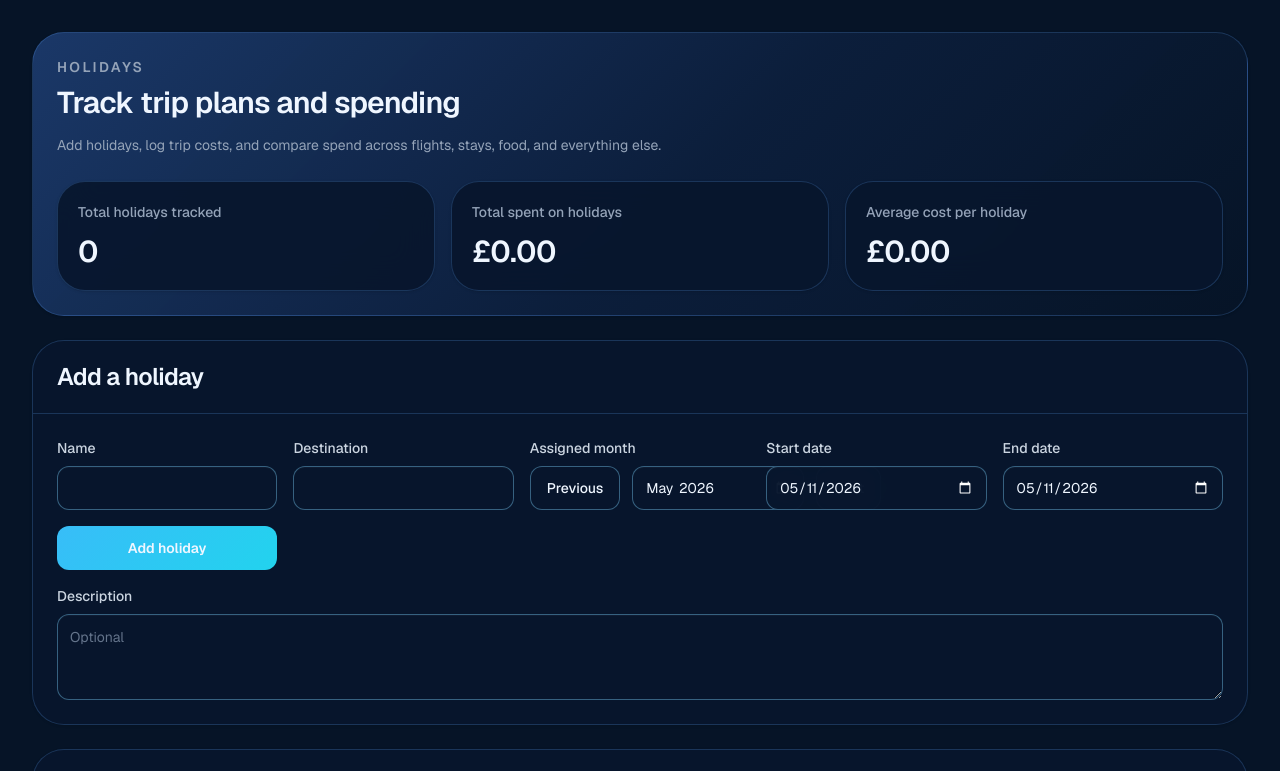
Scenario: [Component] holidays page › should show a validation error when assigned month is cleared before submit
The image size is (1280, 771).
Step 1. Type "Rome Escape" into the field labelled "Name" → (167, 488), box [57,466,277,510]
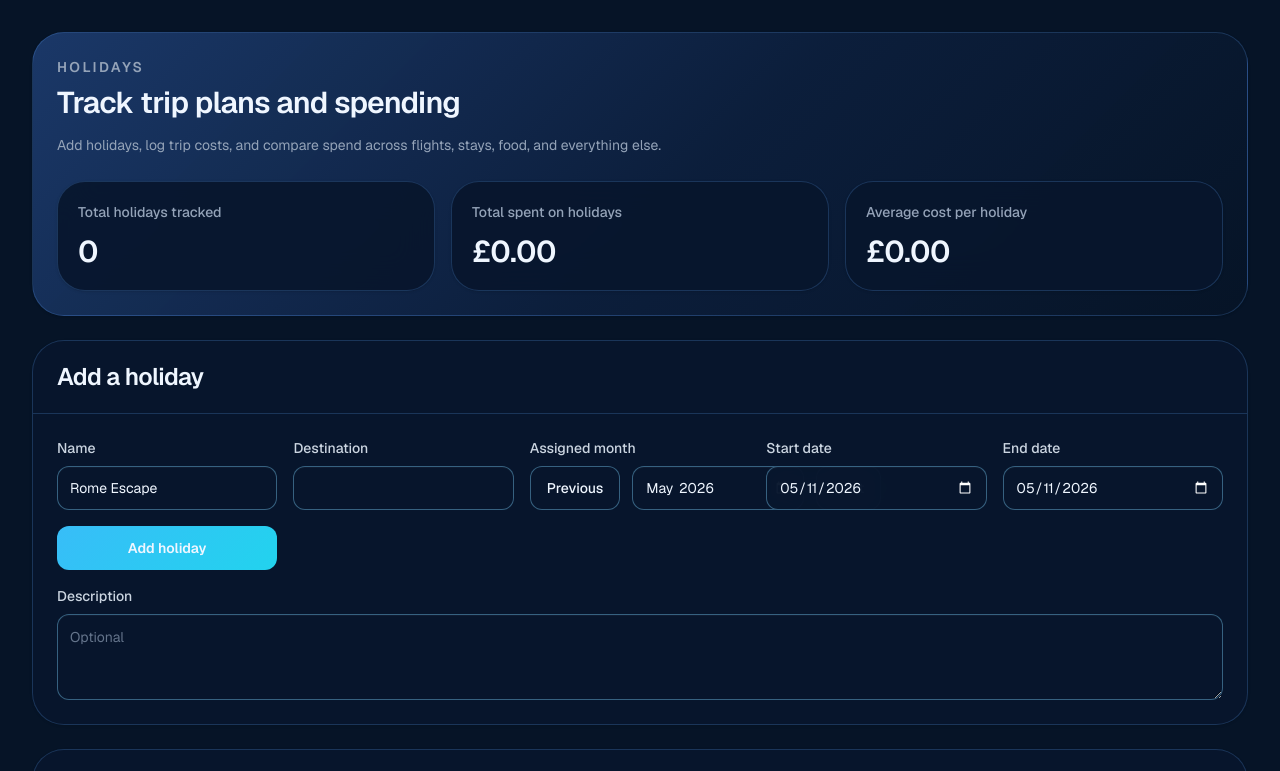
Step 2. Type "Rome" into the field labelled "Destination" → (404, 488), box [293,466,514,510]
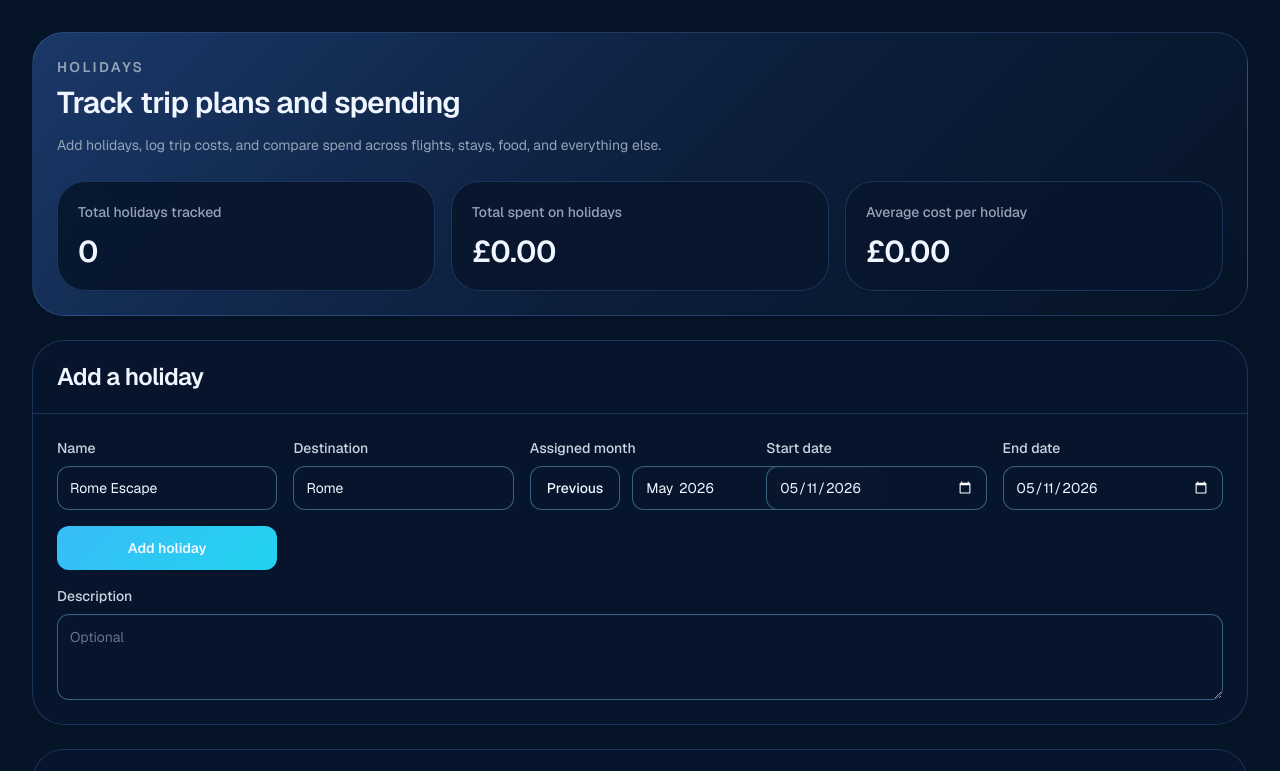
Step 3. Clear the field labelled "Assigned month" → (718, 488), box [632,466,804,510]
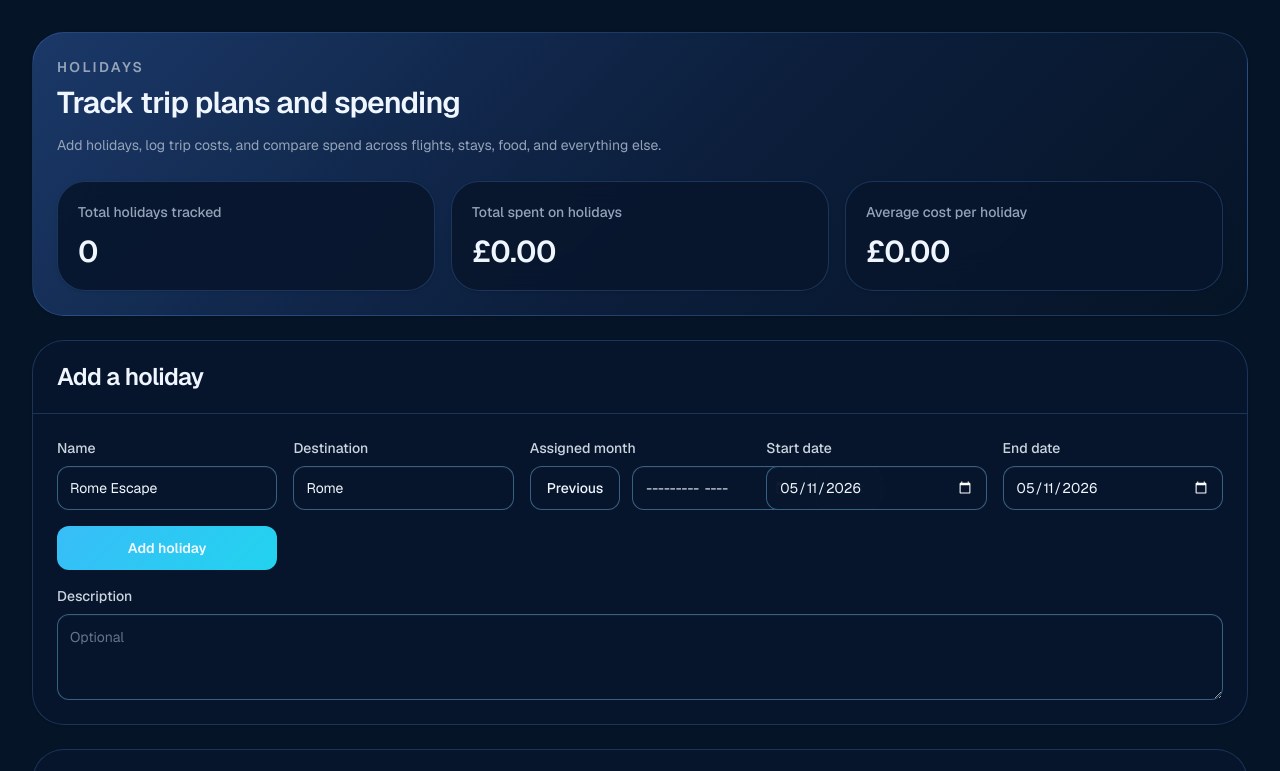
Step 4. Click the button "Add holiday" → (167, 548), box [57,526,277,570]
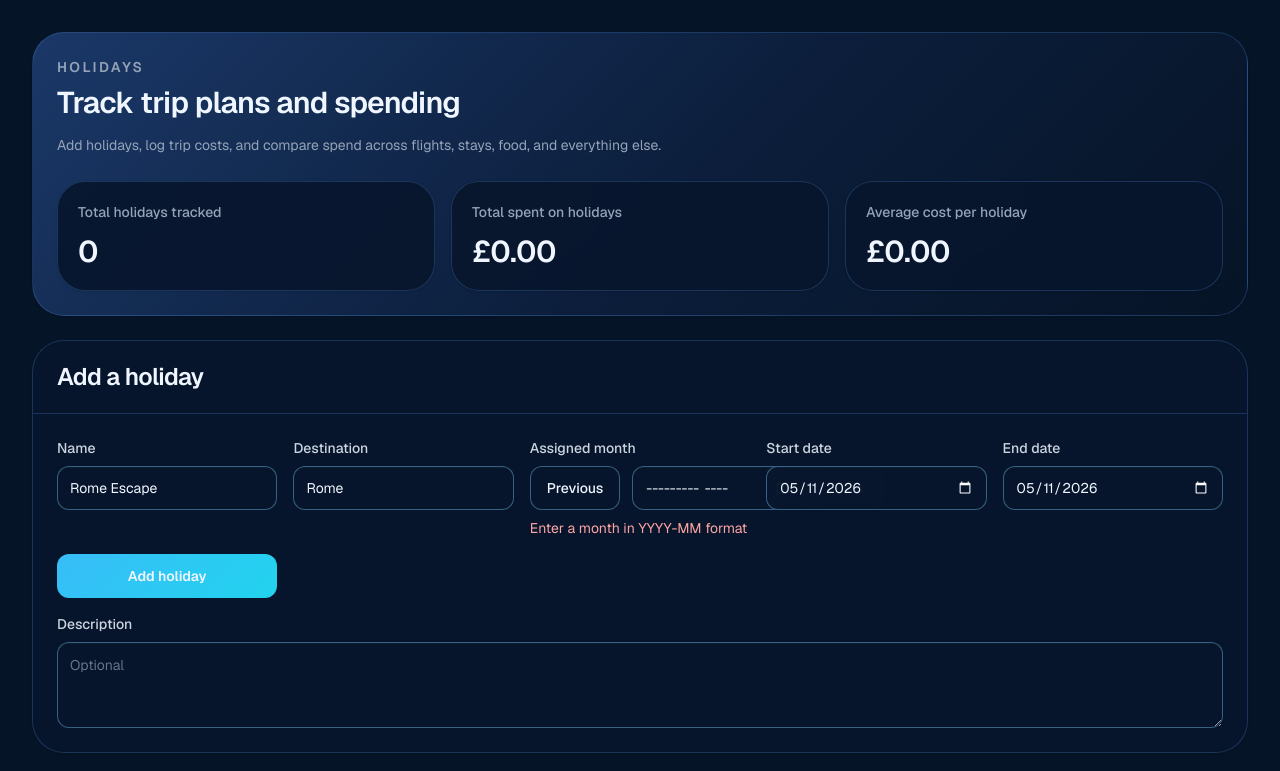
Check: the text "Enter a month in YYYY-MM format" is shown, box [530,518,750,538]
